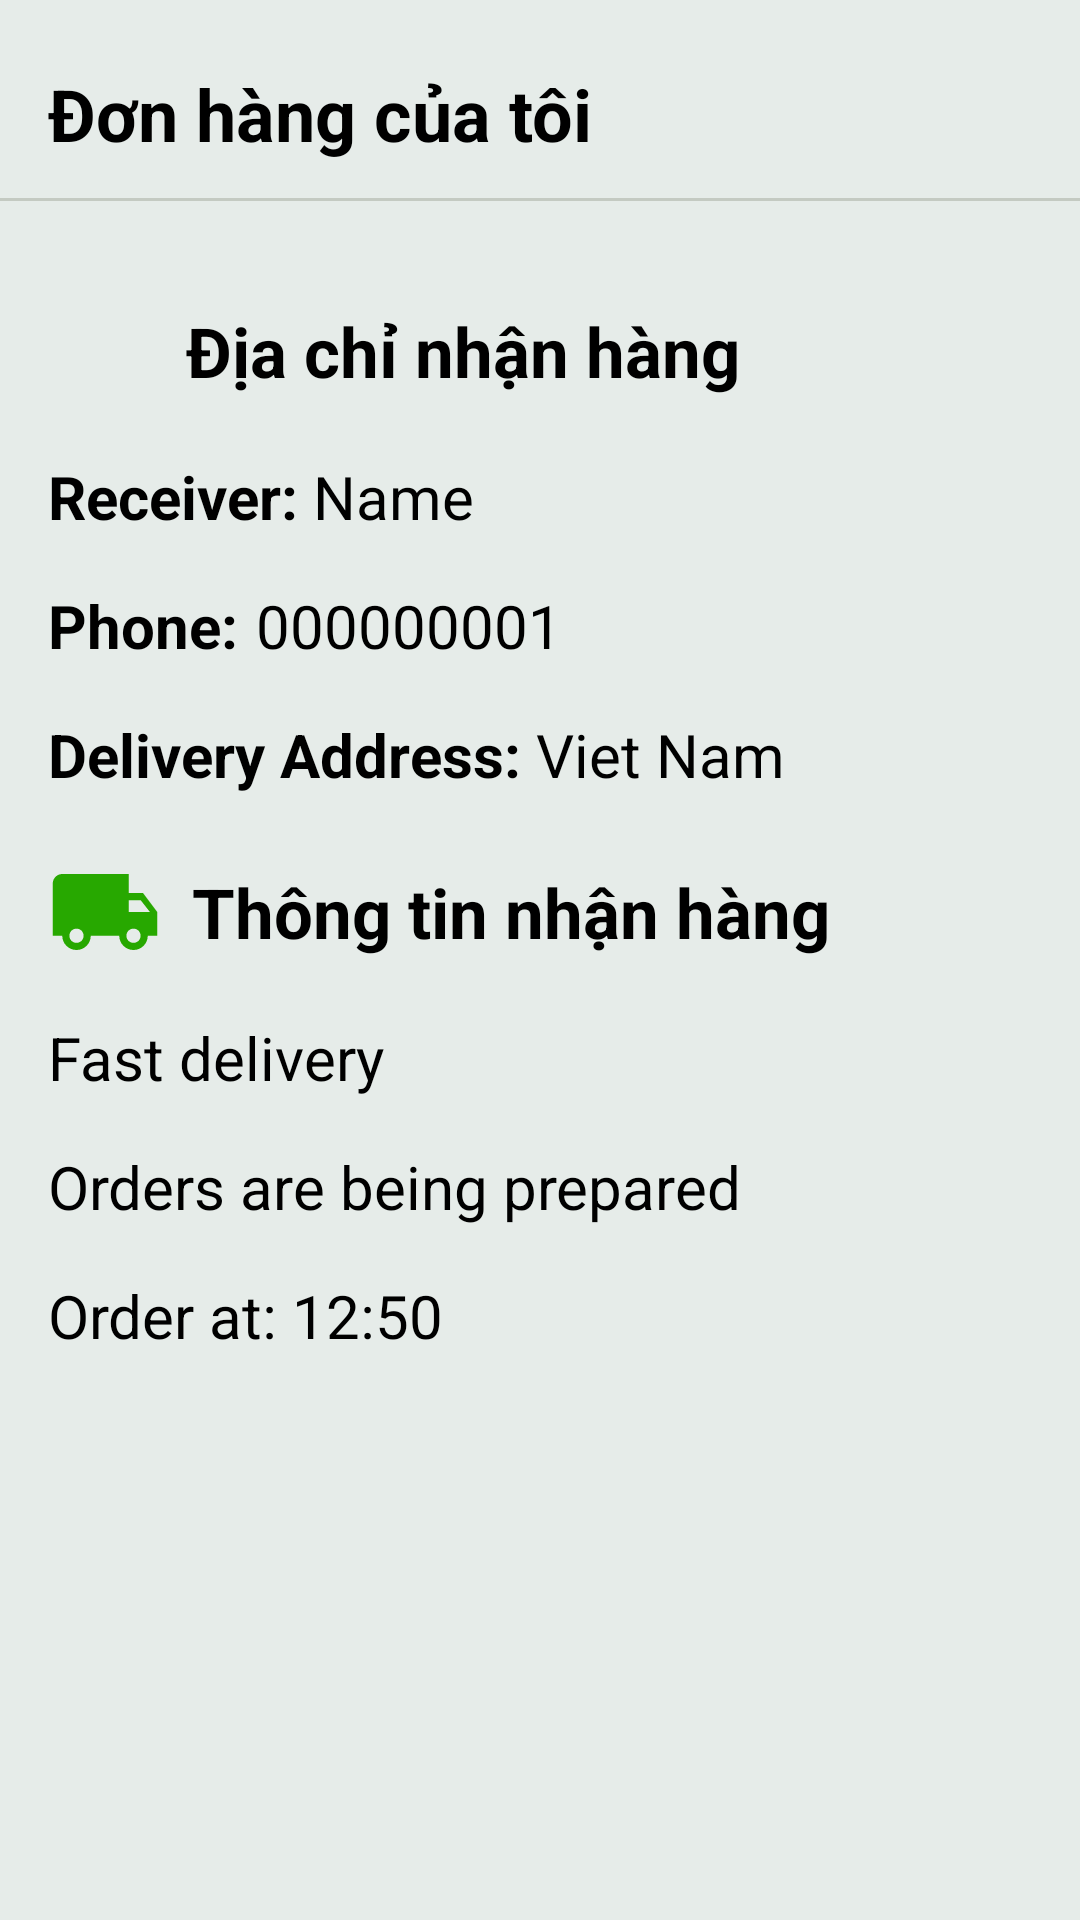

Screen size 1080px×1920px. Icon name, then its box in pixels as [x1,y1,x2,y2]:
local shipping: [52,874,158,950]
